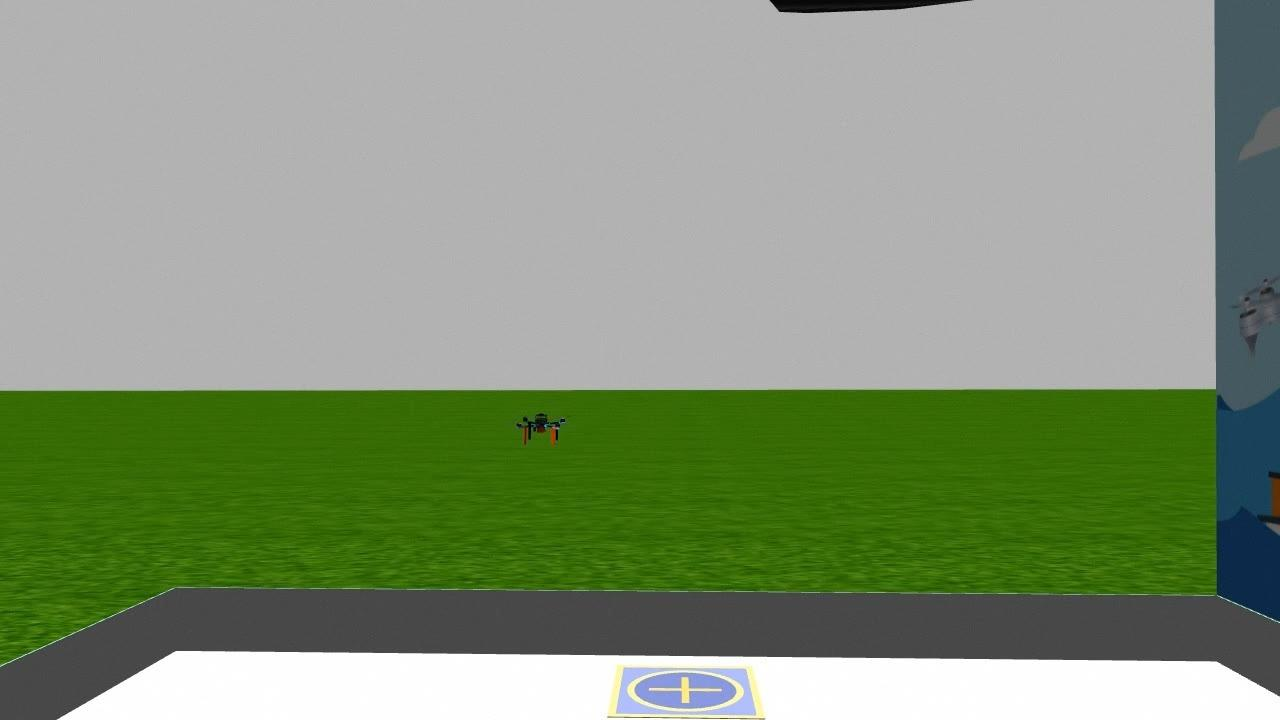UAV: (496, 396, 586, 456)
